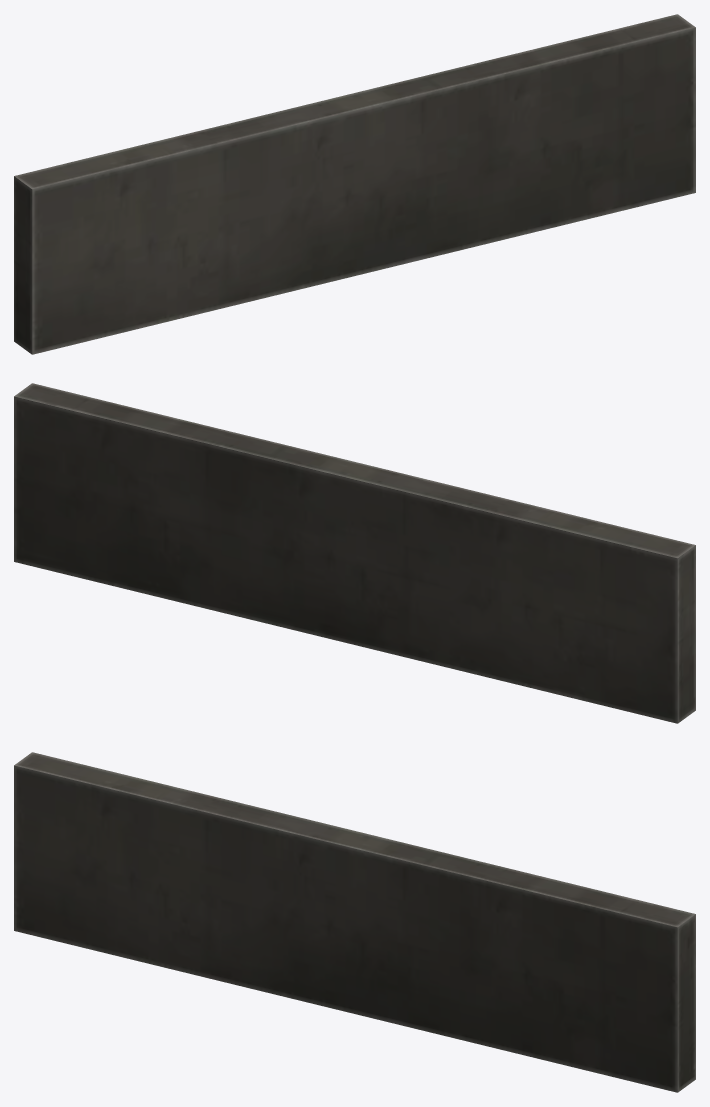
File: footing.glb
The picture shows the model from 3 angles, top to bottom: view 1: azimuth 30°, elevation 25°; view 2: azimuth 150°, elevation 25°; view 3: azimuth 330°, elevation 25°; orthographic projection.
Parts seen in each view (by area): view 1: te_retaining_footing; view 2: te_retaining_footing; view 3: te_retaining_footing.
Boxes of the visible parts, x1=… form: te_retaining_footing: x1=14, y1=14, x2=695, y2=354; te_retaining_footing: x1=14, y1=383, x2=695, y2=723; te_retaining_footing: x1=14, y1=752, x2=695, y2=1092.
Size of the model in its own units: 0.84 by 0.2 by 0.04.
Materials: 1 (1 with a texture image).
